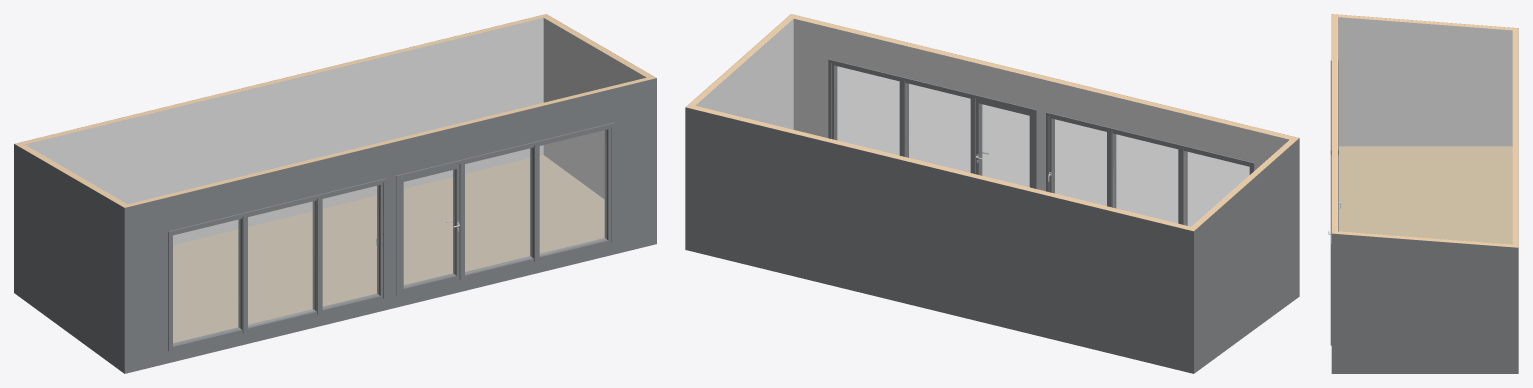
The model's file is a.jotkaite@zpienas.lt_(3,6x10,0)_R00.fbx.
3 renders of one model, left to right at view 1: azimuth 30°, elevation 25°; view 2: azimuth 150°, elevation 25°; view 3: azimuth 270°, elevation 25°, orthographic. The views are drawn at different scales.
Visible parts, largest first — view 1: IfcWall/Part:2397154, IfcWall/Part:2319977, IfcSlab/Part:2319985, IfcWall/Part:2368366, IfcWindow/Langai (Akrusta):1400x2100x120:2511061, IfcWindow/Langai (Akrusta):1400x2100x120:2510957, IfcWindow/Langai (Akrusta):1400x2100x120:2511031, IfcWindow/Langai (Akrusta):1400x2100x120:2510951, IfcWindow/Langai (Akrusta):1200x2100x120 (dešininės):2510476, IfcDoor/Durys išorinės:1200x2100x120 (kairinės):2439432, IfcWall/Part:2397151, IfcWall/Part:2397156 (+3 smaller); view 2: IfcWall/Part:2397155, IfcWall/Part:2319976, IfcWall/Part:2368366, IfcWindow/Langai (Akrusta):1400x2100x120:2511061, IfcWindow/Langai (Akrusta):1400x2100x120:2510951, IfcWindow/Langai (Akrusta):1400x2100x120:2511031, IfcWall/Part:2397151, IfcWindow/Langai (Akrusta):1200x2100x120 (dešininės):2510476, IfcDoor/Durys išorinės:1200x2100x120 (kairinės):2439432, IfcWindow/Langai (Akrusta):1400x2100x120:2510957, IfcWall/Part:2397156, IfcWall/Part:2319978 (+2 smaller); view 3: IfcWall/Part:2397152, IfcWall/Part:2368365, IfcSlab/Part:2319985, IfcWall/Part:2397156, IfcWall/Part:2319978, IfcWall/Part:2397153, IfcWall/Part:2368367, IfcWall/Part:2397155, IfcWindow/Langai (Akrusta):1400x2100x120:2511061, IfcWall/Part:2319977, IfcWall/Part:2319976.
Boxes of the visible parts, x1,y1,x2,y2 form: IfcWall/Part:2397154: (24,17,543,244); IfcWall/Part:2319977: (124,78,656,373); IfcSlab/Part:2319985: (173,155,604,342); IfcWall/Part:2368366: (14,144,124,373); IfcWindow/Langai (Akrusta):1400x2100x120:2511061: (530,122,613,261); IfcWindow/Langai (Akrusta):1400x2100x120:2510957: (168,212,247,351); IfcWindow/Langai (Akrusta):1400x2100x120:2511031: (459,142,539,279); IfcWindow/Langai (Akrusta):1400x2100x120:2510951: (238,194,322,332); IfcWindow/Langai (Akrusta):1200x2100x120 (dešininės):2510476: (312,178,386,314); IfcDoor/Durys išorinės:1200x2100x120 (kairinės):2439432: (396,159,464,295); IfcWall/Part:2397151: (543,18,646,198); IfcWall/Part:2397156: (15,14,548,145); IfcWall/Part:2397155: (685,107,1193,373); IfcWall/Part:2319976: (793,18,1289,191); IfcWall/Part:2368366: (1194,138,1299,373); IfcWindow/Langai (Akrusta):1400x2100x120:2511061: (828,59,908,157); IfcWindow/Langai (Akrusta):1400x2100x120:2510951: (1107,127,1187,225); IfcWindow/Langai (Akrusta):1400x2100x120:2511031: (899,76,975,174); IfcWall/Part:2397151: (695,18,793,129); IfcWindow/Langai (Akrusta):1200x2100x120 (dešininės):2510476: (1046,112,1116,207); IfcDoor/Durys išorinės:1200x2100x120 (kairinės):2439432: (970,94,1036,188); IfcWindow/Langai (Akrusta):1400x2100x120:2510957: (1178,144,1254,226); IfcWall/Part:2397156: (686,104,1196,231); IfcWall/Part:2319978: (794,15,1298,140); IfcWall/Part:2397152: (1331,233,1518,373); IfcWall/Part:2368365: (1338,17,1512,146); IfcSlab/Part:2319985: (1339,146,1512,244); IfcWall/Part:2397156: (1512,28,1518,247); IfcWall/Part:2319978: (1332,14,1337,231); IfcWall/Part:2397153: (1332,231,1512,247); IfcWall/Part:2368367: (1337,14,1512,30); IfcWall/Part:2397155: (1518,28,1518,373); IfcWindow/Langai (Akrusta):1400x2100x120:2511061: (1330,212,1338,345); IfcWall/Part:2319977: (1331,14,1331,233); IfcWall/Part:2319976: (1337,17,1337,230).
Size of the model in its own units: 1000 by 298 by 367.
